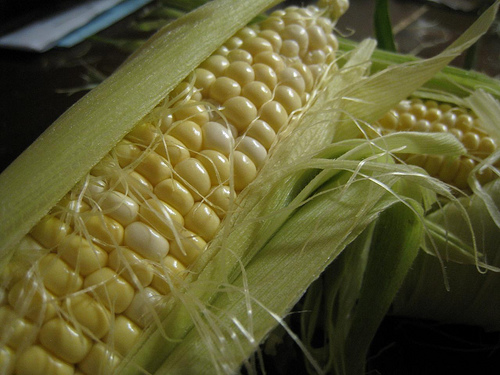corn: (0, 0, 344, 372), (329, 29, 498, 196)
